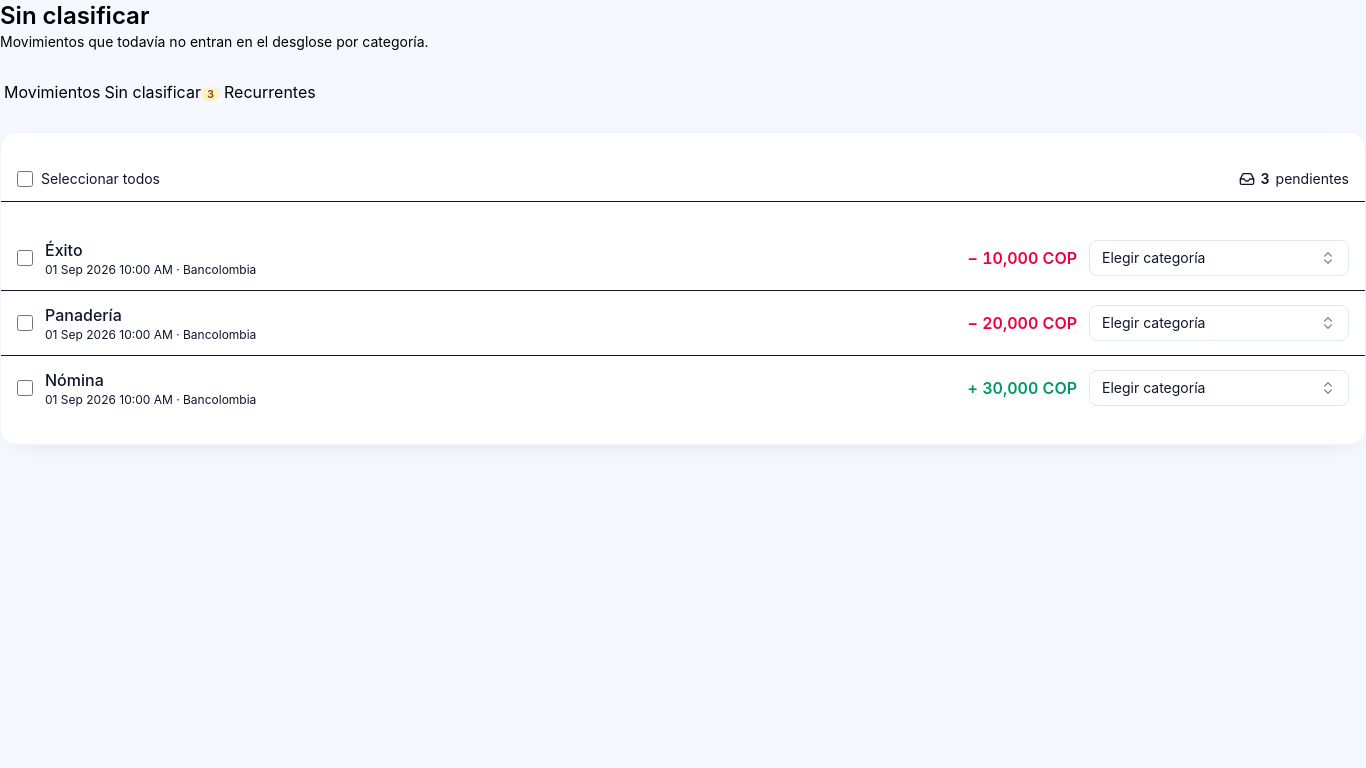
Test: bandeja de pendientes › la barra de acción masiva solo aparece con algo seleccionado
Expected: the text "Éxito" is shown, [45,240,82,260]
Expected: the button "asignar" is not shown
Click the checkbox named "seleccionar Éxito". click: (25, 258)
box: [17,250,33,266]
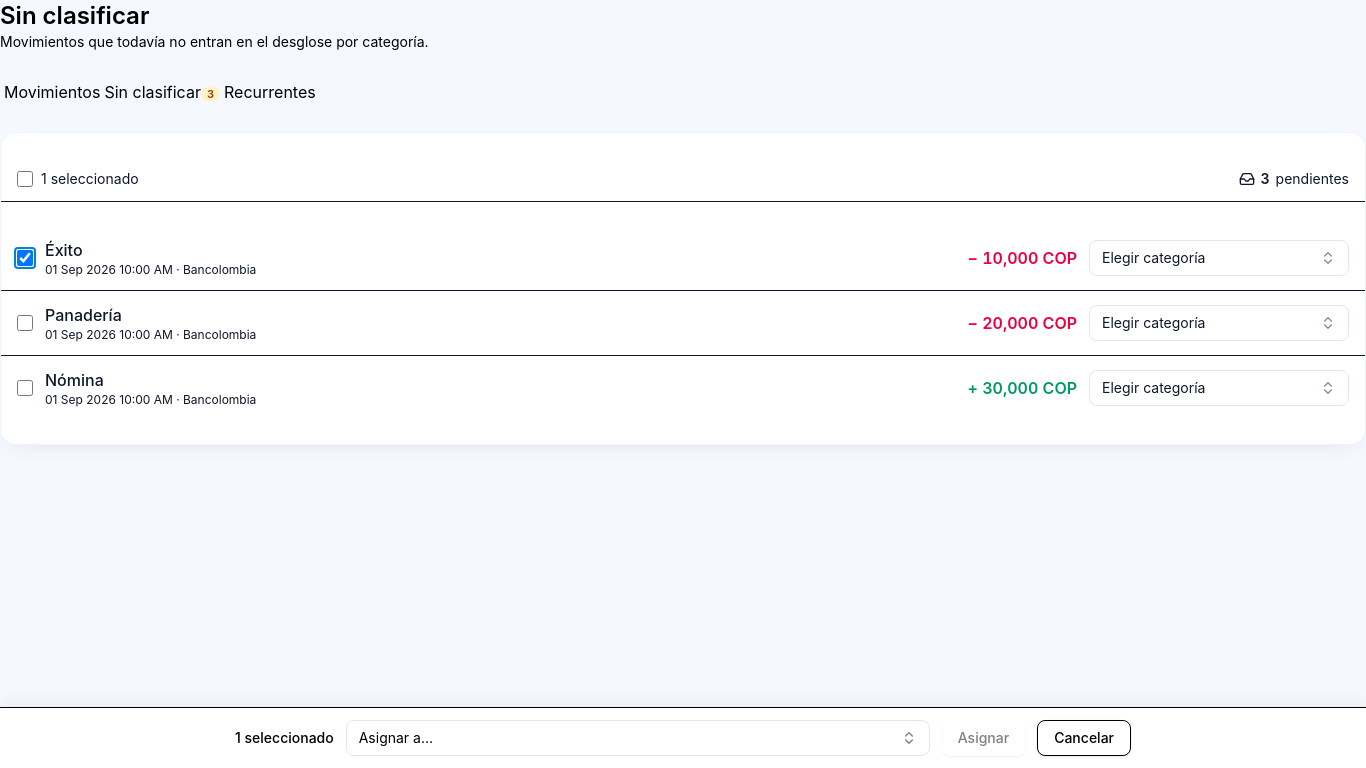
Result: the button "Asignar" is shown at [942,720,1025,756]
